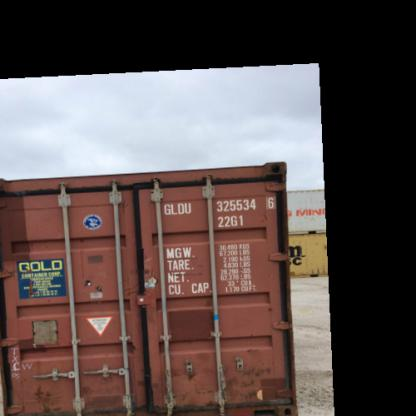Damage: (153, 357, 215, 415), (77, 368, 145, 414), (219, 348, 272, 405), (124, 233, 158, 309), (76, 260, 120, 298), (24, 377, 66, 415)
